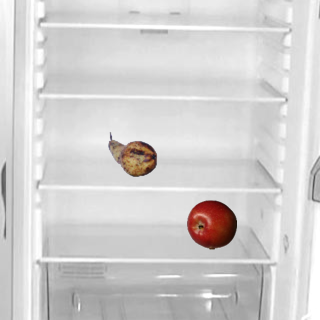Apple Braeburn: (186, 199, 236, 249)
Pear Abate: (107, 129, 157, 179)
